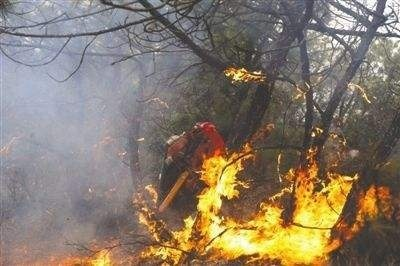fire: (189, 139, 380, 266), (73, 188, 188, 264), (221, 63, 266, 84)
